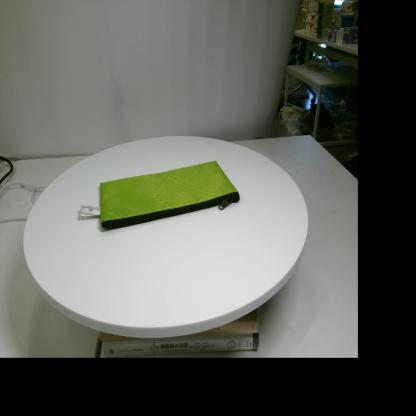Stationery: (80, 160, 240, 228)
